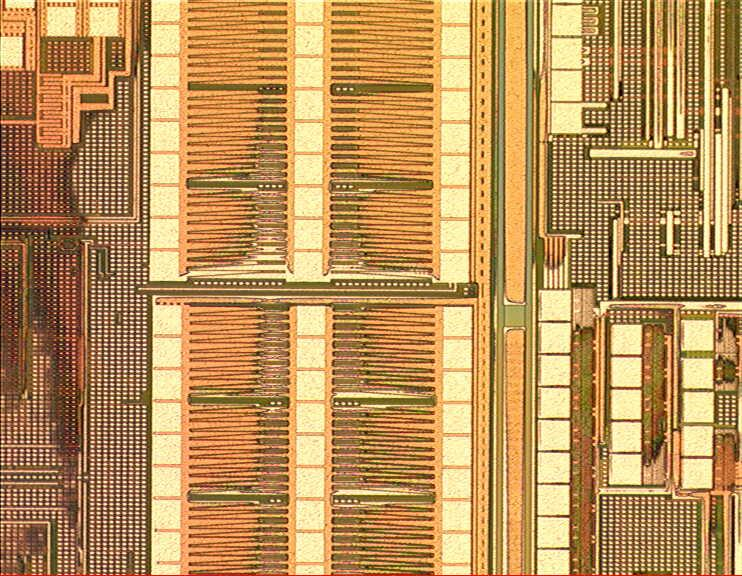COATING BAD: (1, 1, 570, 576)
